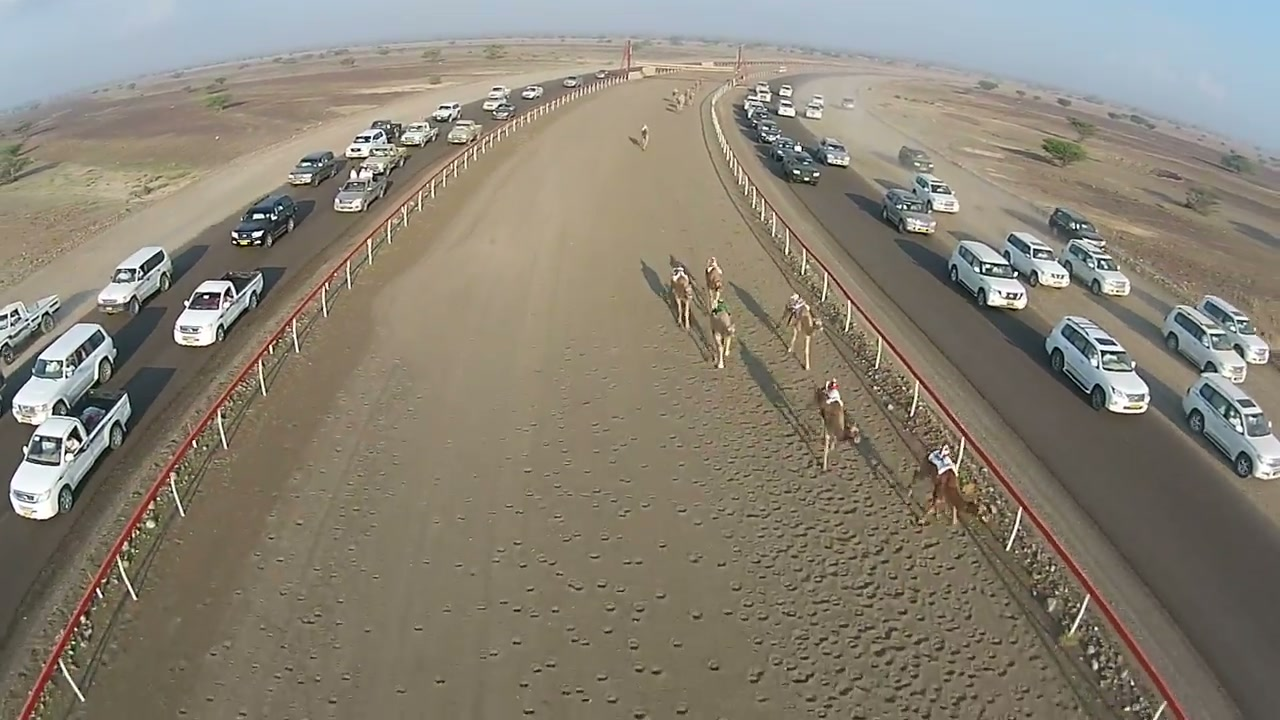animal_foot_print: (668, 367, 1068, 715), (469, 362, 748, 719)
